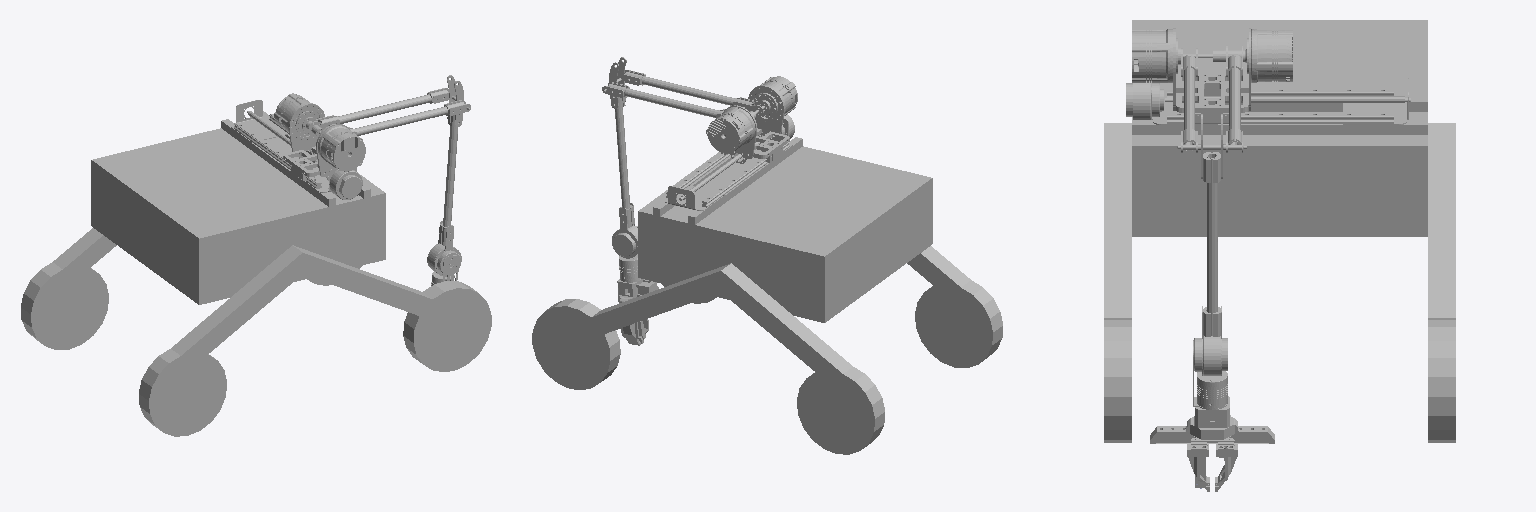
The robot description file, URDF, robot "arm_v3":
<?xml version="1.0" encoding="utf-8"?>
<!-- This URDF was automatically created by SolidWorks to URDF Exporter! Originally created by [author] ([email redacted]) 
     Commit Version: 1.6.0-4-g7f85cfe  Build Version: 1.6.7995.38578
     For more information, please see http://wiki.ros.org/sw_urdf_exporter -->
<robot
  name="arm_v3">
  <link
    name="link0">
    <inertial>
      <origin
        xyz="-0.251090659205178 0.260128435049847 -0.130847884636194"
        rpy="0 0 0" />
      <mass
        value="60.6958871716405" />
      <inertia
        ixx="2.79606191317483"
        ixy="3.85439821565107E-07"
        ixz="0.0976183373066583"
        iyy="3.07575830053153"
        iyz="4.92814854944356E-07"
        izz="4.35921030434229" />
    </inertial>
    <visual>
      <origin
        xyz="0 0 0"
        rpy="0 0 0" />
      <geometry>
        <mesh
          filename="package://arm_v3/meshes/link0.STL" />
      </geometry>
      <material
        name="">
        <color
          rgba="0.752941176470588 0.752941176470588 0.752941176470588 1" />
      </material>
    </visual>
    <collision>
      <origin
        xyz="0 0 0"
        rpy="0 0 0" />
      <geometry>
        <mesh
          filename="package://arm_v3/meshes/link0.STL" />
      </geometry>
    </collision>
  </link>
  <link
    name="link1">
    <inertial>
      <origin
        xyz="4.0031480939888E-05 -0.035642586815204 0.000678922257745573"
        rpy="0 0 0" />
      <mass
        value="0.478244116351058" />
      <inertia
        ixx="0.000449779643862842"
        ixy="8.4478145908809E-07"
        ixz="-8.12704403358029E-09"
        iyy="0.000588126213744917"
        iyz="1.30199185421708E-08"
        izz="0.000706086171218913" />
    </inertial>
    <visual>
      <origin
        xyz="0 0 0"
        rpy="0 0 0" />
      <geometry>
        <mesh
          filename="package://arm_v3/meshes/link1.STL" />
      </geometry>
      <material
        name="">
        <color
          rgba="0.752941176470588 0.752941176470588 0.752941176470588 1" />
      </material>
    </visual>
    <collision>
      <origin
        xyz="0 0 0"
        rpy="0 0 0" />
      <geometry>
        <mesh
          filename="package://arm_v3/meshes/link1.STL" />
      </geometry>
    </collision>
  </link>
  <joint
    name="Joint1"
    type="prismatic">
    <origin
      xyz="-0.101 0.1416 0.06"
      rpy="-1.5708 0 0" />
    <parent
      link="link0" />
    <child
      link="link1" />
    <axis
      xyz="0 0 1" />
    <limit
      lower="-0.005"
      upper="0.265"
      effort="30"
      velocity="2" />
  </joint>
  <link
    name="link2">
    <inertial>
      <origin
        xyz="0.187948326346529 2.08166817117217E-16 -0.0001721672214893"
        rpy="0 0 0" />
      <mass
        value="0.157877291608978" />
      <inertia
        ixx="2.60456373616675E-05"
        ixy="2.33466430277734E-10"
        ixz="2.27918534324271E-18"
        iyy="0.000848829832045359"
        iyz="-2.97082534014363E-11"
        izz="0.000837396820593812" />
    </inertial>
    <visual>
      <origin
        xyz="0 0 0"
        rpy="0 0 0" />
      <geometry>
        <mesh
          filename="package://arm_v3/meshes/link2.STL" />
      </geometry>
      <material
        name="">
        <color
          rgba="0.752941176470588 0.752941176470588 0.752941176470588 1" />
      </material>
    </visual>
    <collision>
      <origin
        xyz="0 0 0"
        rpy="0 0 0" />
      <geometry>
        <mesh
          filename="package://arm_v3/meshes/link2.STL" />
      </geometry>
    </collision>
  </link>
  <joint
    name="Joint2"
    type="revolute">
    <origin
      xyz="0 -0.067 0"
      rpy="3.1416 0 0" />
    <parent
      link="link1" />
    <child
      link="link2" />
    <axis
      xyz="0 0 1" />
    <limit
      lower="-0.3"
      upper="3.14"
      effort="30"
      velocity="1" />
  </joint>
  <link
    name="link3">
    <inertial>
      <origin
        xyz="0.348175135083634 -4.22417342571951E-05 0.000900843531423862"
        rpy="0 0 0" />
      <mass
        value="0.323819592600619" />
      <inertia
        ixx="0.000134265681035463"
        ixy="-8.93822435553632E-07"
        ixz="2.95002944985626E-07"
        iyy="0.000595550748577075"
        iyz="2.94987492826497E-07"
        izz="0.000616815874843774" />
    </inertial>
    <visual>
      <origin
        xyz="0 0 0"
        rpy="0 0 0" />
      <geometry>
        <mesh
          filename="package://arm_v3/meshes/link3.STL" />
      </geometry>
      <material
        name="">
        <color
          rgba="0.752941176470588 0.752941176470588 0.752941176470588 1" />
      </material>
    </visual>
    <collision>
      <origin
        xyz="0 0 0"
        rpy="0 0 0" />
      <geometry>
        <mesh
          filename="package://arm_v3/meshes/link3.STL" />
      </geometry>
    </collision>
  </link>
  <joint
    name="Joint3"
    type="revolute">
    <origin
      xyz="0.38 0 0"
      rpy="0 0 0" />
    <parent
      link="link2" />
    <child
      link="link3" />
    <axis
      xyz="0 0 1" />
    <limit
      lower="-2.8"
      upper="-0.5"
      effort="30"
      velocity="1" />
  </joint>
  <link
    name="link4">
    <inertial>
      <origin
        xyz="0.0686475844437738 6.89542467470494E-06 0.00534492633402461"
        rpy="0 0 0" />
      <mass
        value="0.0454929980032775" />
      <inertia
        ixx="2.2529161457187E-05"
        ixy="2.89999434352634E-09"
        ixz="3.43437518412773E-06"
        iyy="2.96012406729517E-05"
        iyz="-3.57161747140525E-08"
        izz="2.93547817598039E-05" />
    </inertial>
    <visual>
      <origin
        xyz="0 0 0"
        rpy="0 0 0" />
      <geometry>
        <mesh
          filename="package://arm_v3/meshes/link4.STL" />
      </geometry>
      <material
        name="">
        <color
          rgba="0.752941176470588 0.752941176470588 0.752941176470588 1" />
      </material>
    </visual>
    <collision>
      <origin
        xyz="0 0 0"
        rpy="0 0 0" />
      <geometry>
        <mesh
          filename="package://arm_v3/meshes/link4.STL" />
      </geometry>
    </collision>
  </link>
  <joint
    name="Joint4"
    type="revolute">
    <origin
      xyz="0.42 0 0"
      rpy="0 0 0" />
    <parent
      link="link3" />
    <child
      link="link4" />
    <axis
      xyz="0 0 1" />
    <limit
      lower="-2.34"
      upper="2.34"
      effort="30"
      velocity="1" />
  </joint>
  <link
    name="link5">
    <inertial>
      <origin
        xyz="0.000264785580504856 -0.0107768236032084 0.0946749535225379"
        rpy="0 0 0" />
      <mass
        value="0.329538398062322" />
      <inertia
        ixx="0.000230546266294305"
        ixy="3.01581502188436E-07"
        ixz="1.37509395264184E-07"
        iyy="0.000473403834820231"
        iyz="-1.02601590417029E-05"
        izz="0.000480126563066167" />
    </inertial>
    <visual>
      <origin
        xyz="0 0 0"
        rpy="0 0 0" />
      <geometry>
        <mesh
          filename="package://arm_v3/meshes/link5.STL" />
      </geometry>
      <material
        name="">
        <color
          rgba="0.752941176470588 0.752941176470588 0.752941176470588 1" />
      </material>
    </visual>
    <collision>
      <origin
        xyz="0 0 0"
        rpy="0 0 0" />
      <geometry>
        <mesh
          filename="package://arm_v3/meshes/link5.STL" />
      </geometry>
    </collision>
  </link>
  <joint
    name="Joint5"
    type="continuous">
    <origin
      xyz="0.0405 0 0"
      rpy="0 1.5708 0" />
    <parent
      link="link4" />
    <child
      link="link5" />
    <axis
      xyz="0 0 1" />
    <limit
      lower="-100"
      upper="100"
      effort="30"
      velocity="2" />
  </joint>
  <link
    name="link6">
    <inertial>
      <origin
        xyz="0.021153108358719 0.00021937737665198 -0.066862099604607"
        rpy="0 0 0" />
      <mass
        value="0.0479899579175019" />
      <inertia
        ixx="2.43696645694917E-05"
        ixy="-4.89284253335616E-21"
        ixz="2.92350939700212E-06"
        iyy="2.21626807453364E-05"
        iyz="2.09710323371289E-08"
        izz="1.18502152130745E-05" />
    </inertial>
    <visual>
      <origin
        xyz="0 0 0"
        rpy="0 0 0" />
      <geometry>
        <mesh
          filename="package://arm_v3/meshes/link6.STL" />
      </geometry>
      <material
        name="">
        <color
          rgba="0.752941176470588 0.752941176470588 0.752941176470588 1" />
      </material>
    </visual>
    <collision>
      <origin
        xyz="0 0 0"
        rpy="0 0 0" />
      <geometry>
        <mesh
          filename="package://arm_v3/meshes/link6.STL" />
      </geometry>
    </collision>
  </link>
  <joint
    name="Joint6"
    type="prismatic">
    <origin
      xyz="0.0045 0 0.2282"
      rpy="0 0 0" />
    <parent
      link="link5" />
    <child
      link="link6" />
    <axis
      xyz="1 0 0" />
    <limit
      lower="0"
      upper="0.054"
      effort="30"
      velocity="4" />
    <mimic
      joint="Joint7"
      multiplier="1"
      offset="0" />
  </joint>
  <link
    name="link7">
    <inertial>
      <origin
        xyz="0.0210599721696343 0.000219384673841916 -0.0670349818515534"
        rpy="0 0 0" />
      <mass
        value="0.0482590100516987" />
      <inertia
        ixx="2.40029371617255E-05"
        ixy="-8.2345710853084E-11"
        ixz="2.72664839449111E-06"
        iyy="2.1712774926561E-05"
        iyz="1.81964531031136E-08"
        izz="1.20732312881539E-05" />
    </inertial>
    <visual>
      <origin
        xyz="0 0 0"
        rpy="0 0 0" />
      <geometry>
        <mesh
          filename="package://arm_v3/meshes/link7.STL" />
      </geometry>
      <material
        name="">
        <color
          rgba="0.752941176470588 0.752941176470588 0.752941176470588 1" />
      </material>
    </visual>
    <collision>
      <origin
        xyz="0 0 0"
        rpy="0 0 0" />
      <geometry>
        <mesh
          filename="package://arm_v3/meshes/link7.STL" />
      </geometry>
    </collision>
  </link>
  <joint
    name="Joint7"
    type="prismatic">
    <origin
      xyz="-0.0035 0 0.2282"
      rpy="0 0 -3.1416" />
    <parent
      link="link5" />
    <child
      link="link7" />
    <axis
      xyz="1 0 0" />
    <limit
      lower="0"
      upper="0.054"
      effort="30"
      velocity="1" />
  </joint>
  <link
    name="link8">
    <inertial>
      <origin
        xyz="3.2752E-15 5.0793E-15 -0.022351"
        rpy="0 0 0" />
      <mass
        value="0.011248" />
      <inertia
        ixx="1.2977E-06"
        ixy="-8.2295E-23"
        ixz="-1.3485E-22"
        iyy="1.227E-06"
        iyz="9.0378E-22"
        izz="6.735E-07" />
    </inertial>
    <visual>
      <origin
        xyz="0 0 0"
        rpy="0 0 0" />
      <geometry>
        <mesh
          filename="package://arm_v3/meshes/link8.STL" />
      </geometry>
      <material
        name="">
        <color
          rgba="0.79216 0.81961 0.93333 1" />
      </material>
    </visual>
    <collision>
      <origin
        xyz="0 0 0"
        rpy="0 0 0" />
      <geometry>
        <mesh
          filename="package://arm_v3/meshes/link8.STL" />
      </geometry>
    </collision>
  </link>
  <joint
    name="Joint8"
    type="fixed">
    <origin
      xyz="0.017 0 0.002"
      rpy="0 0 0" />
    <parent
      link="link7" />
    <child
      link="link8" />
    <axis
      xyz="0 0 0" />
  </joint>
</robot>

--- What the picture shows (computed from the rendered views, not written in the file) ---
The picture shows the robot from 3 angles, left to right: view 1: azimuth 30°, elevation 25°; view 2: azimuth 150°, elevation 25°; view 3: azimuth 270°, elevation 25°; orthographic projection.
Robot: arm_v3 — 9 links, 8 joints (3 revolute, 1 continuous, 3 prismatic, 1 fixed); root link link0; default pose: all joints at 0 but 1 set to mid-range because 0 is outside their limits (Joint3 = -1.65).
Visible links, largest first — view 1: link0, link1, link2, link3; view 2: link0, link1, link2, link3, link5; view 3: link0, link1, link3, link2, link5, link4, link7, link6.
Boxes of the visible links, x1=… form: link0: x1=21, y1=100, x2=491, y2=436; link1: x1=274, y1=93, x2=365, y2=180; link2: x1=302, y1=88, x2=470, y2=136; link3: x1=427, y1=75, x2=463, y2=276; link0: x1=532, y1=114, x2=1002, y2=454; link1: x1=706, y1=76, x2=797, y2=163; link2: x1=602, y1=70, x2=768, y2=118; link3: x1=609, y1=57, x2=637, y2=258; link5: x1=617, y1=279, x2=658, y2=302; link0: x1=1104, y1=20, x2=1455, y2=442; link1: x1=1132, y1=28, x2=1292, y2=123; link3: x1=1194, y1=114, x2=1227, y2=375; link2: x1=1177, y1=45, x2=1246, y2=152; link5: x1=1150, y1=396, x2=1274, y2=443; link4: x1=1193, y1=340, x2=1227, y2=409; link7: x1=1187, y1=436, x2=1209, y2=491; link6: x1=1215, y1=436, x2=1237, y2=491.
Bounding box of the posed robot: 0.9822 × 0.622 × 0.7484 m (x, y, z).
Meshes: 9 distinct files referenced, 9 mesh visuals loaded (9 binary STL).